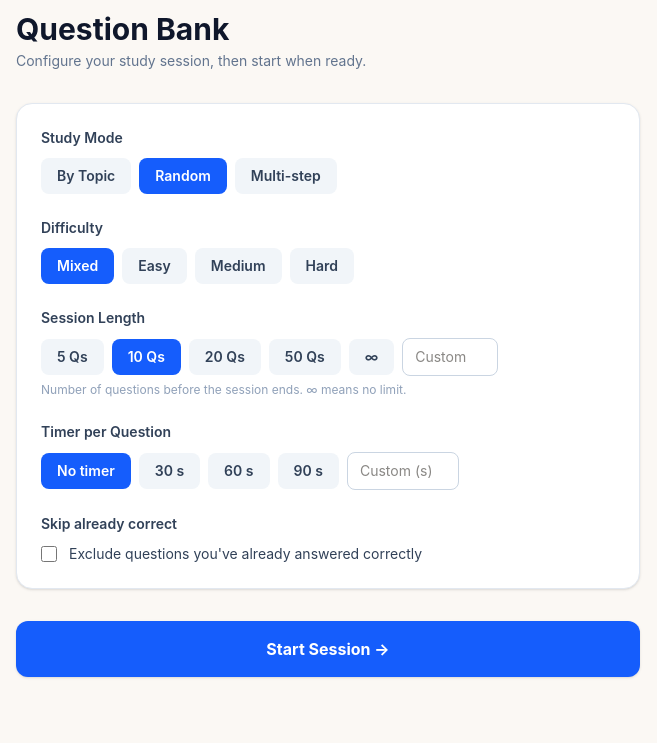
QuestionsPage › shows topics from API when By Topic mode selected
Click the button "By Topic" at (86, 176), box [41,158,131,194]
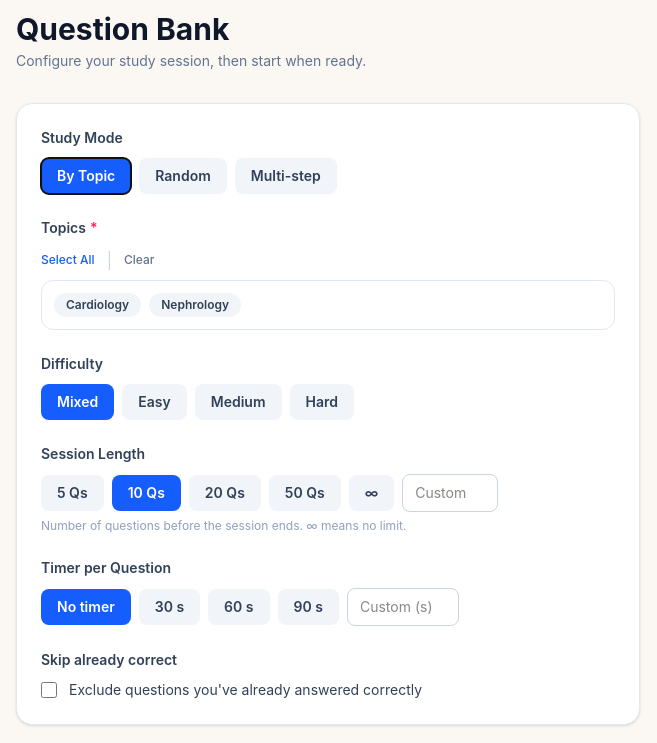
Expected: the button "Cardiology" is shown, [54,293,141,317]
Expected: the button "Nephrology" is shown, [149,293,241,317]
